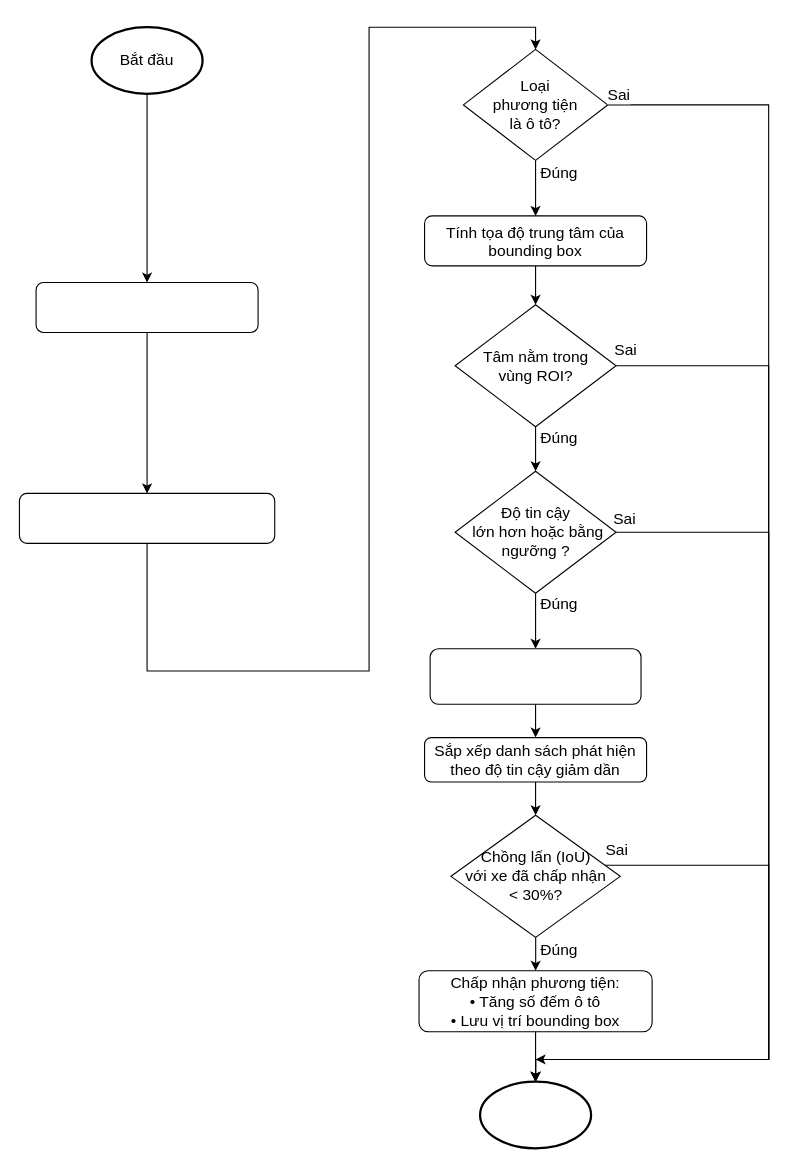
Some shapes in this 797 by 1169 pixel diagram are drawn without their labels. The shapes that lost their labels are listed below. From the top down, each one's centre as x and y in pixels, then its label:
point 146,306: Tạo mặt nạ nhị phân cho vùng ROI dạng đa giác
point 146,517: Chạy mô hình YOLO trên ảnh phát hiện tất cả phương tiện
point 535,676: Thêm phát hiện vào danh sách phương tiện hợp lệ
point 535,1114: Kết thúc
